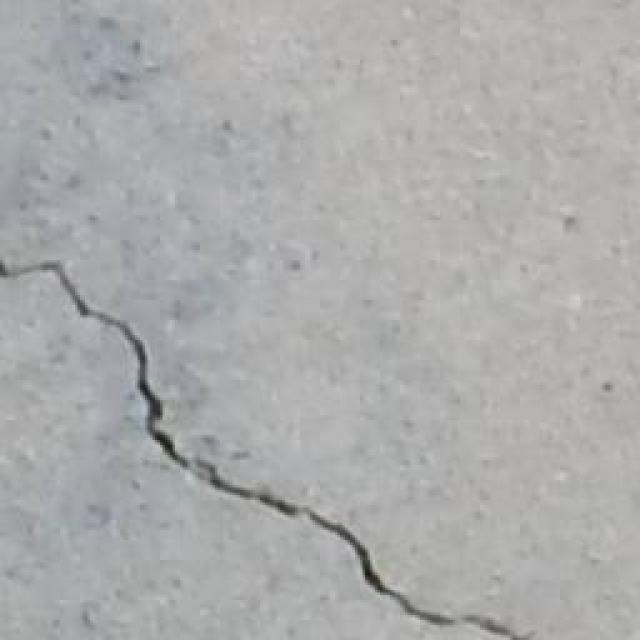concrete-crack: (2, 261, 521, 639)
